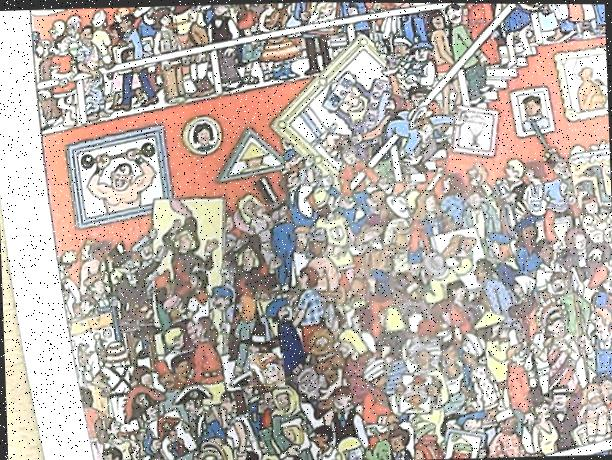waldo: (250, 352, 284, 388)
